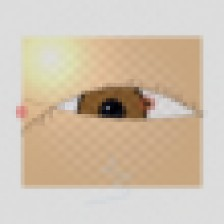foreign_body_visible: (132, 92, 162, 116)
